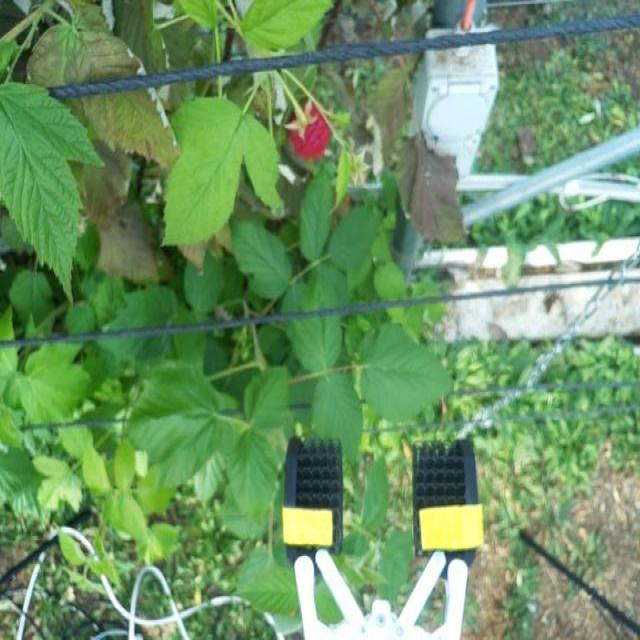Riped berries: (284, 96, 333, 163)
